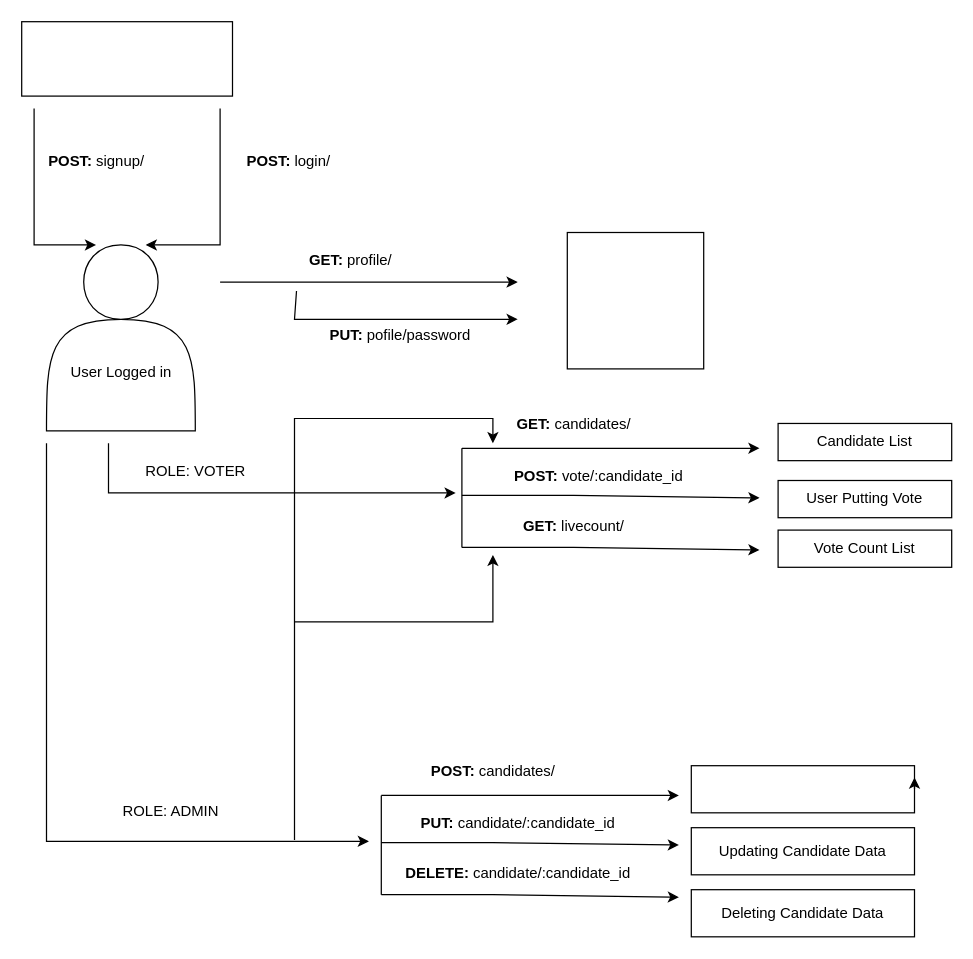
The diagram is 973 pixels wide and 959 high, and some of its shapes have lost their labels. Here are the shapes that lost their labels. From the top down, the box of each, then its label:
(20, 20, 232, 96): User
(566, 231, 704, 369): Profile Display
(690, 764, 914, 813): Adding new candidates to list
